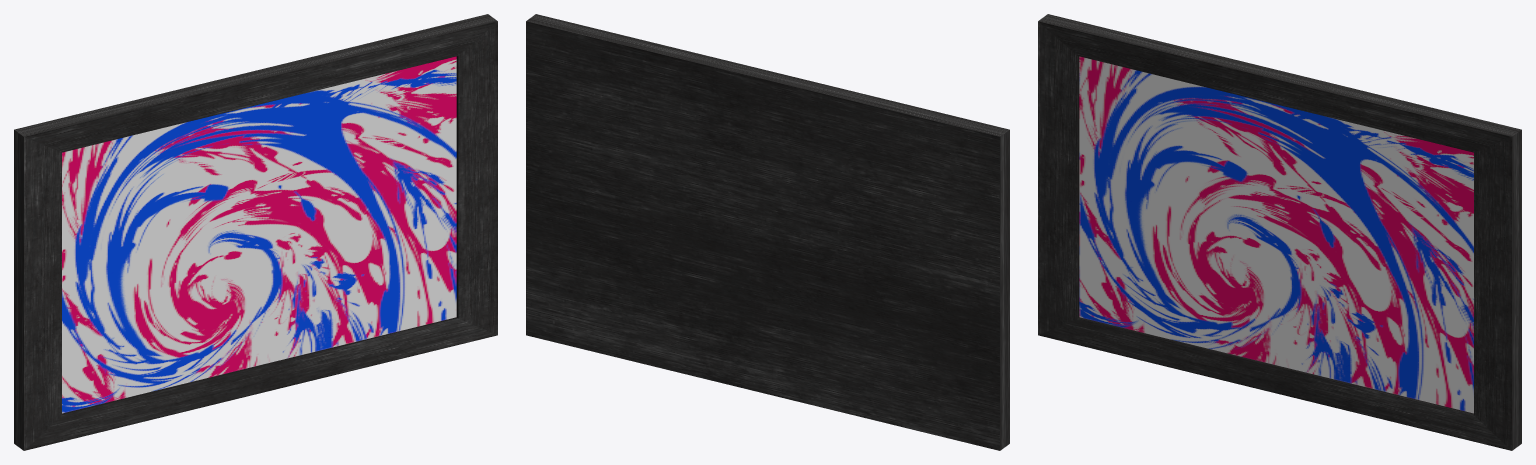
Rendered from painting_landscape_7.fbx.
3 renders of one model, left to right at view 1: azimuth 30°, elevation 25°; view 2: azimuth 150°, elevation 25°; view 3: azimuth 330°, elevation 25°, orthographic.
Parts seen in each view (by area): view 1: painting_Var8.003; view 2: painting_Var8.003; view 3: painting_Var8.003.
Part boxes in pixels (<box>): painting_Var8.003: <box>14,14,497,450</box>; painting_Var8.003: <box>526,14,1009,450</box>; painting_Var8.003: <box>1038,14,1521,450</box>.
Bounding box in the file's own units: 113 × 71.52 × 4.11.
Materials: 1 (1 with a texture image).
